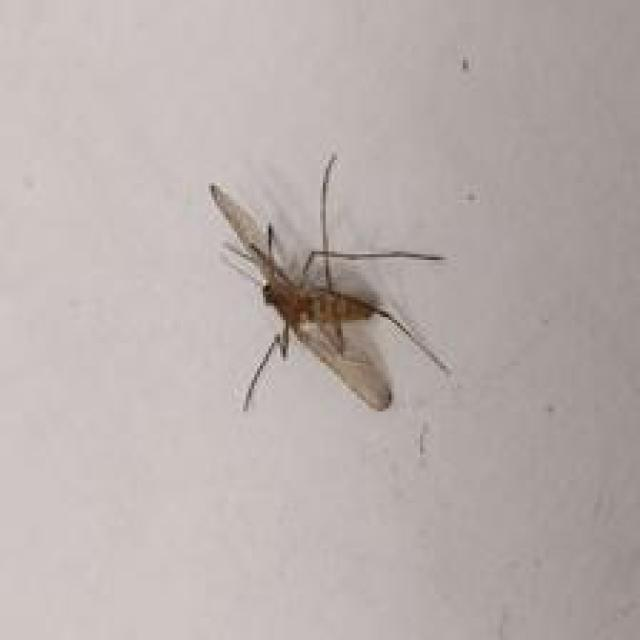Culex: (207, 152, 453, 414)
